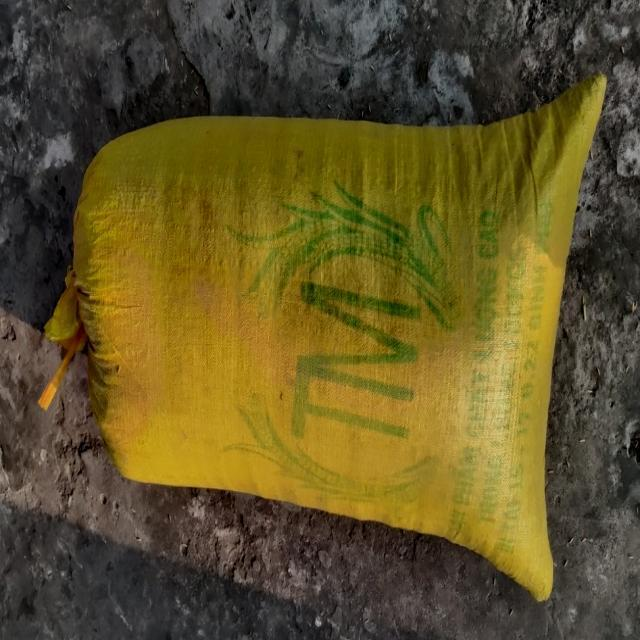gunny_bag: (48, 74, 606, 601)
